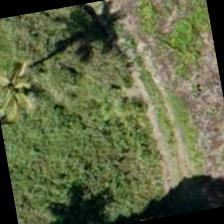Kelapa_Sawit: (0, 42, 62, 142)
